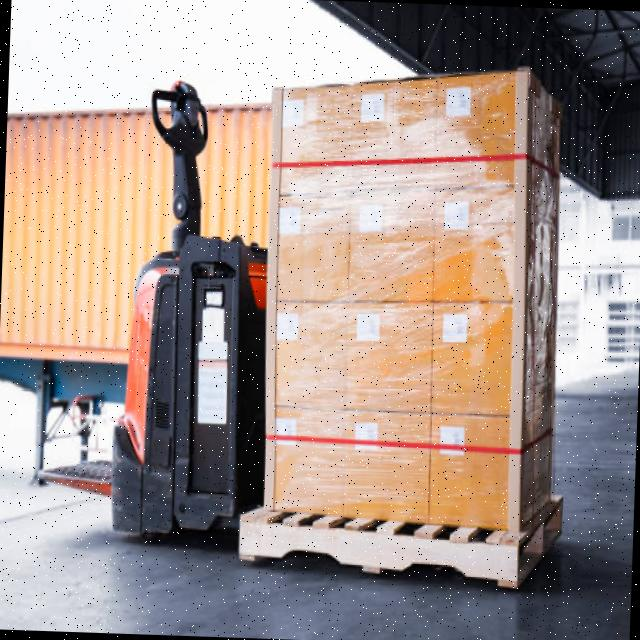Wooden-Pallets: (236, 491, 575, 590)
